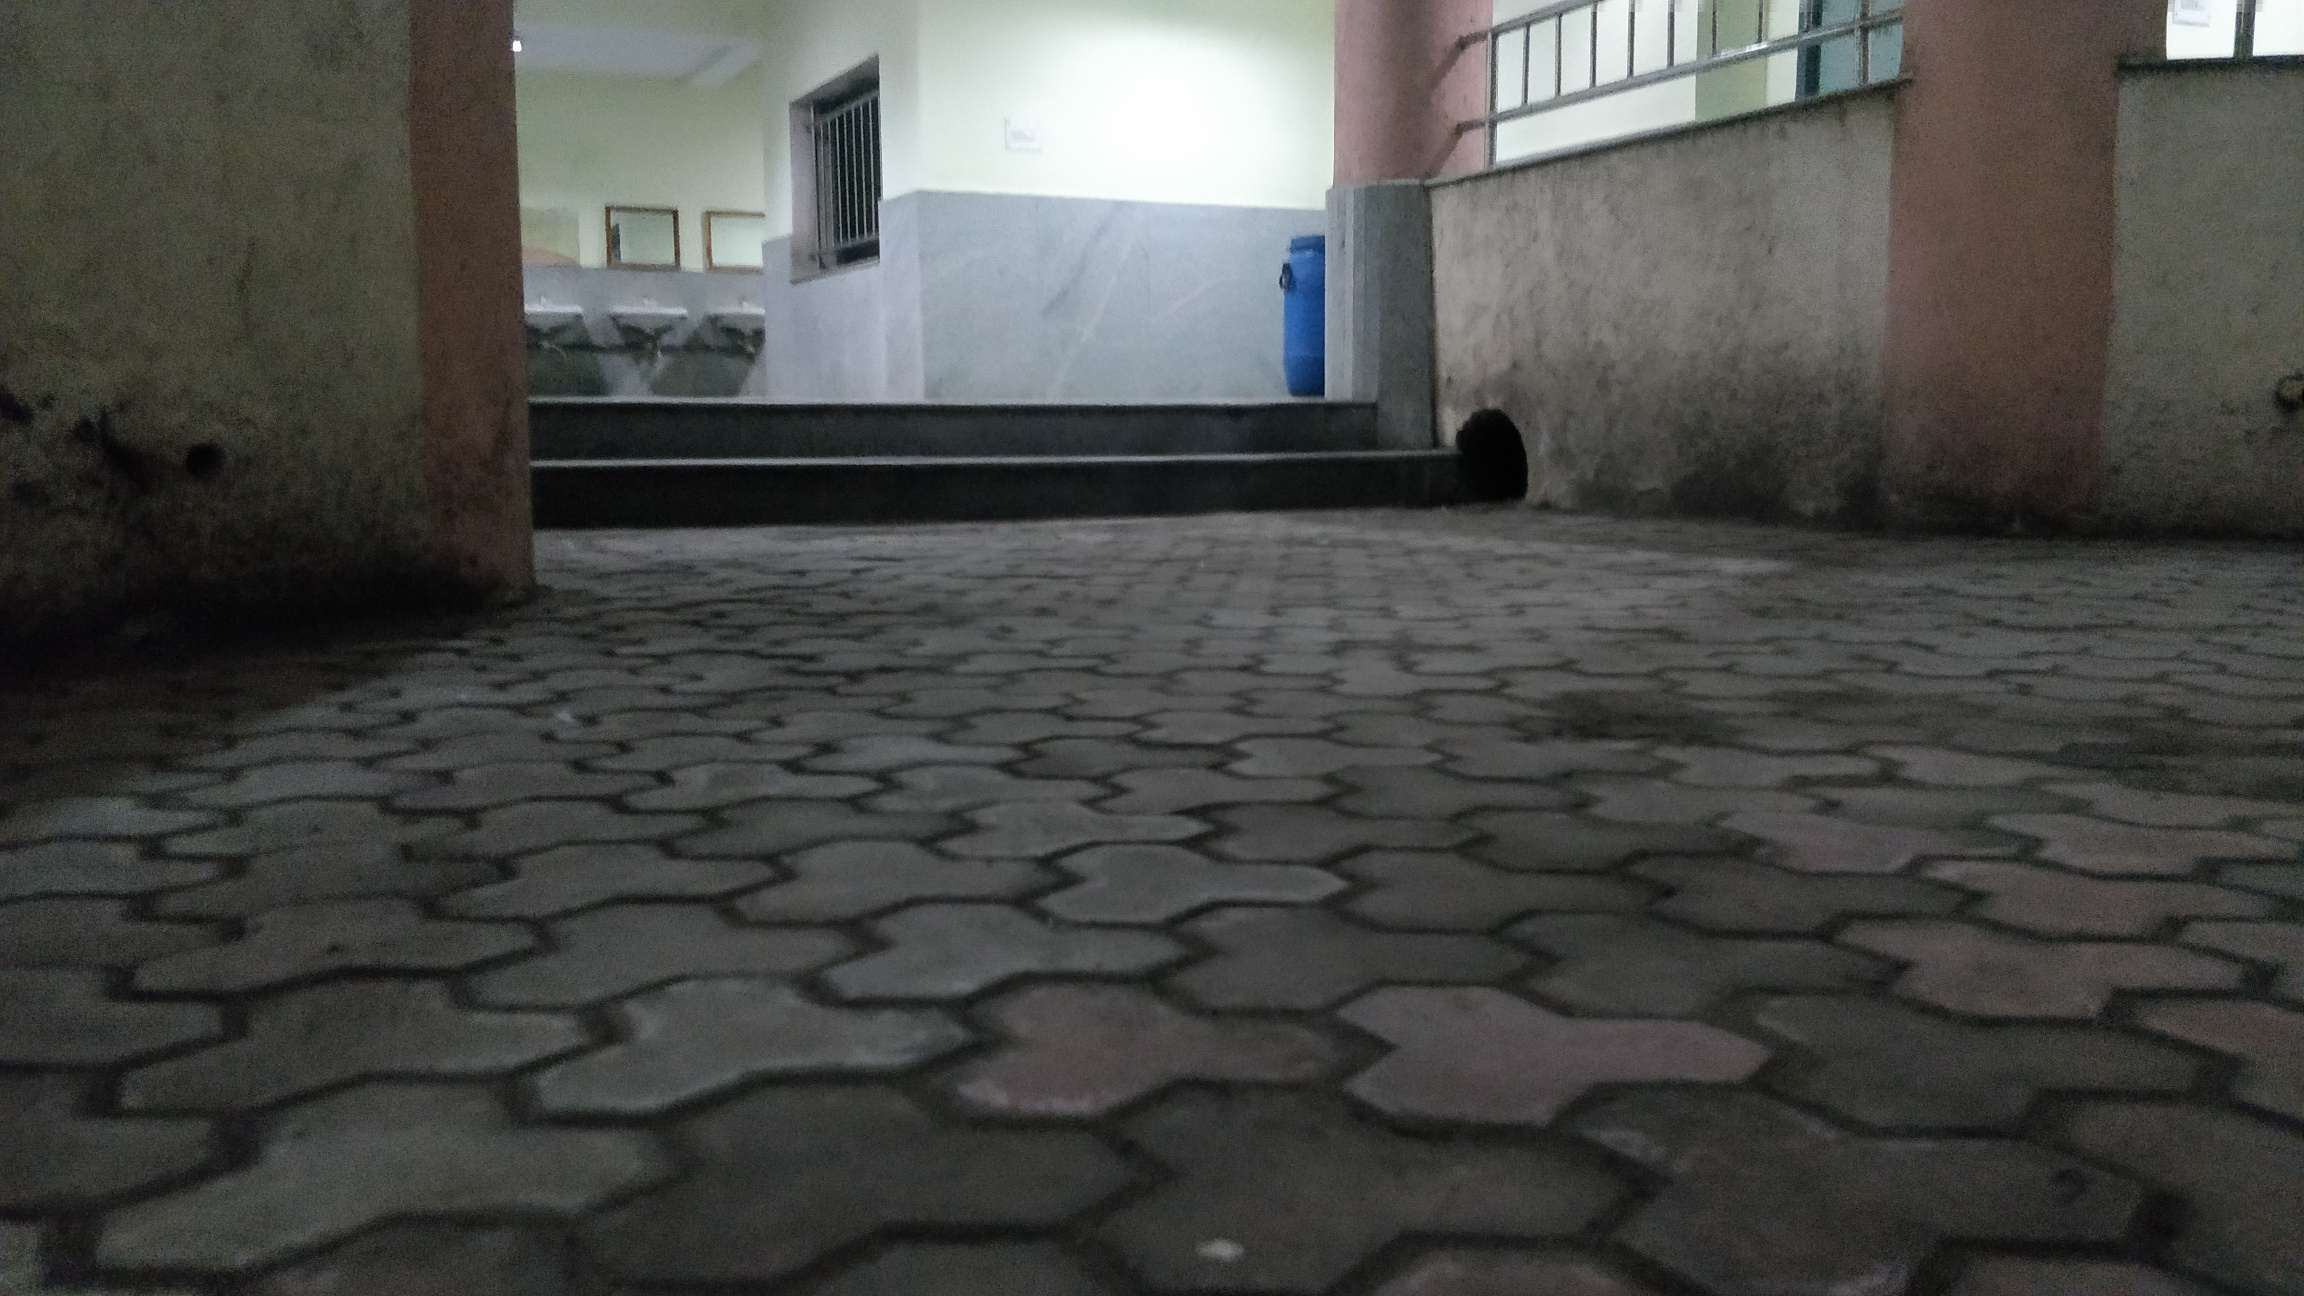stairs_up: (533, 399, 1492, 519)
